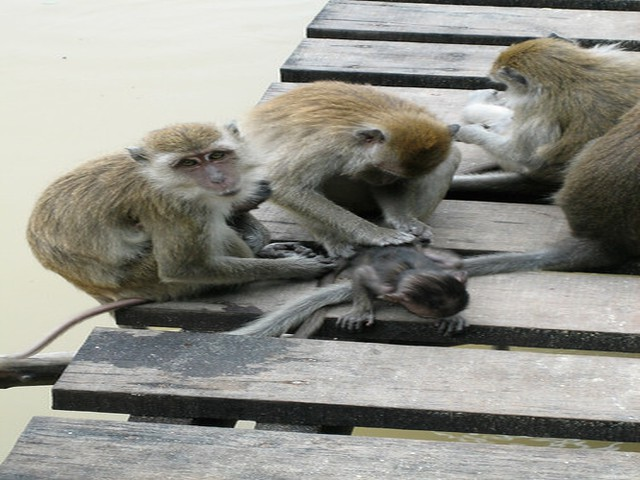Monkey: (23, 32, 640, 333)
